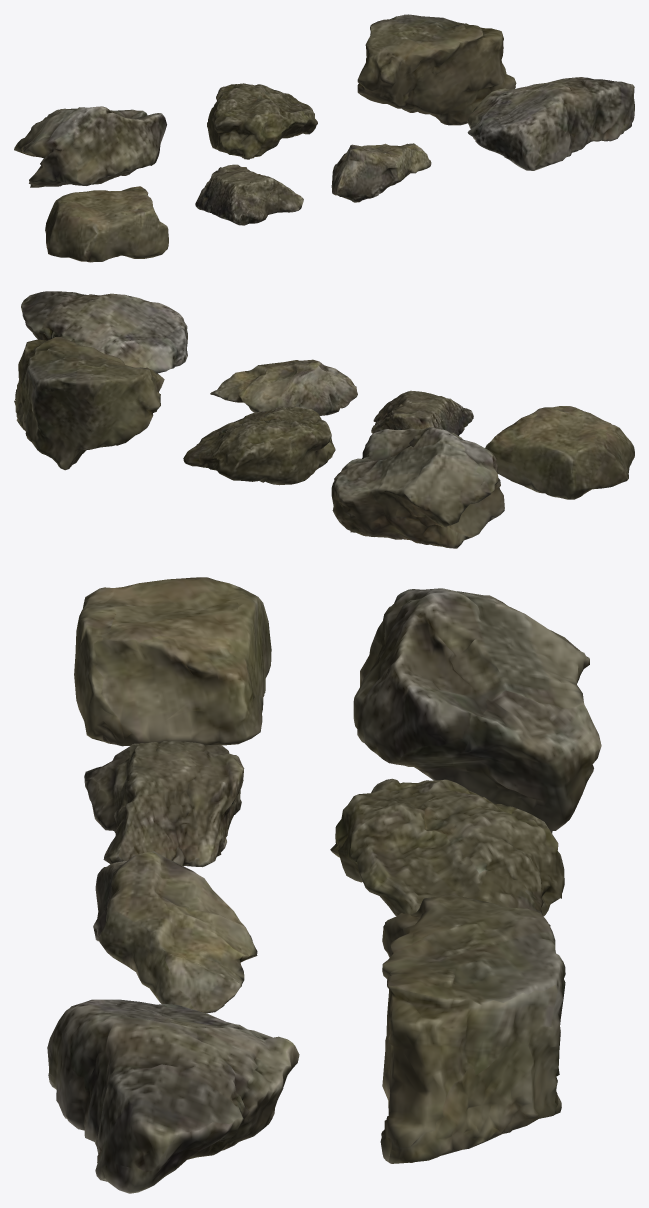
Rendered from rocks-moss-02.88d624ca.glb.
3 views of the same model, one above another, from view 1: azimuth 30°, elevation 25°; view 2: azimuth 150°, elevation 25°; view 3: azimuth 270°, elevation 25° (orthographic). The views are drawn at different scales.
Visible parts, largest first — view 1: model; view 2: model; view 3: model.
Boxes of the visible parts, x1,y1,x2,y2 form: model: [14, 14, 634, 262]; model: [14, 291, 634, 548]; model: [47, 577, 601, 1193].
Bounding box in the file's own units: 8.27 × 1.37 × 3.41.
Materials: 1 (1 with a texture image).
